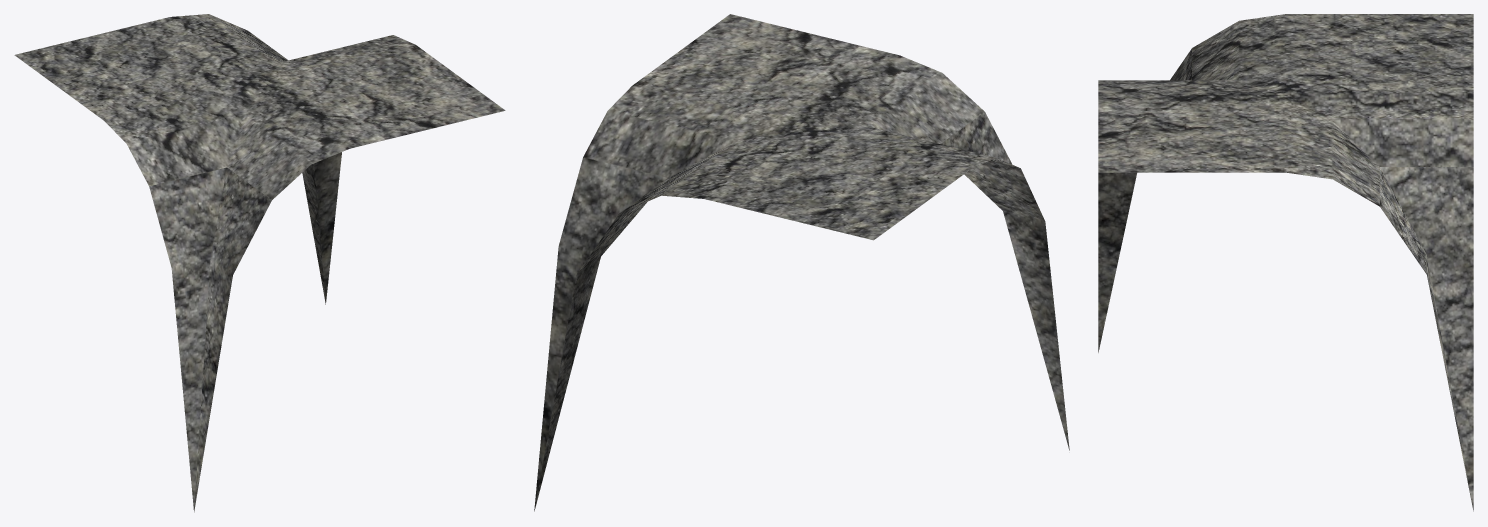
Rendered from Stone4d.obj.
The picture shows the model from 3 angles, left to right: view 1: azimuth 30°, elevation 25°; view 2: azimuth 150°, elevation 25°; view 3: azimuth 270°, elevation 25°; orthographic projection. The views are drawn at different scales.
Visible parts, largest first — view 1: Grid_Grid.019_Grid_Grid.038; view 2: Grid_Grid.019_Grid_Grid.038; view 3: Grid_Grid.019_Grid_Grid.038.
Part boxes in pixels (<box>): Grid_Grid.019_Grid_Grid.038: <box>14,14,505,512</box>; Grid_Grid.019_Grid_Grid.038: <box>534,14,1069,511</box>; Grid_Grid.019_Grid_Grid.038: <box>1098,14,1473,511</box>.
Bounding box in the file's own units: 1 × 1 × 1.
